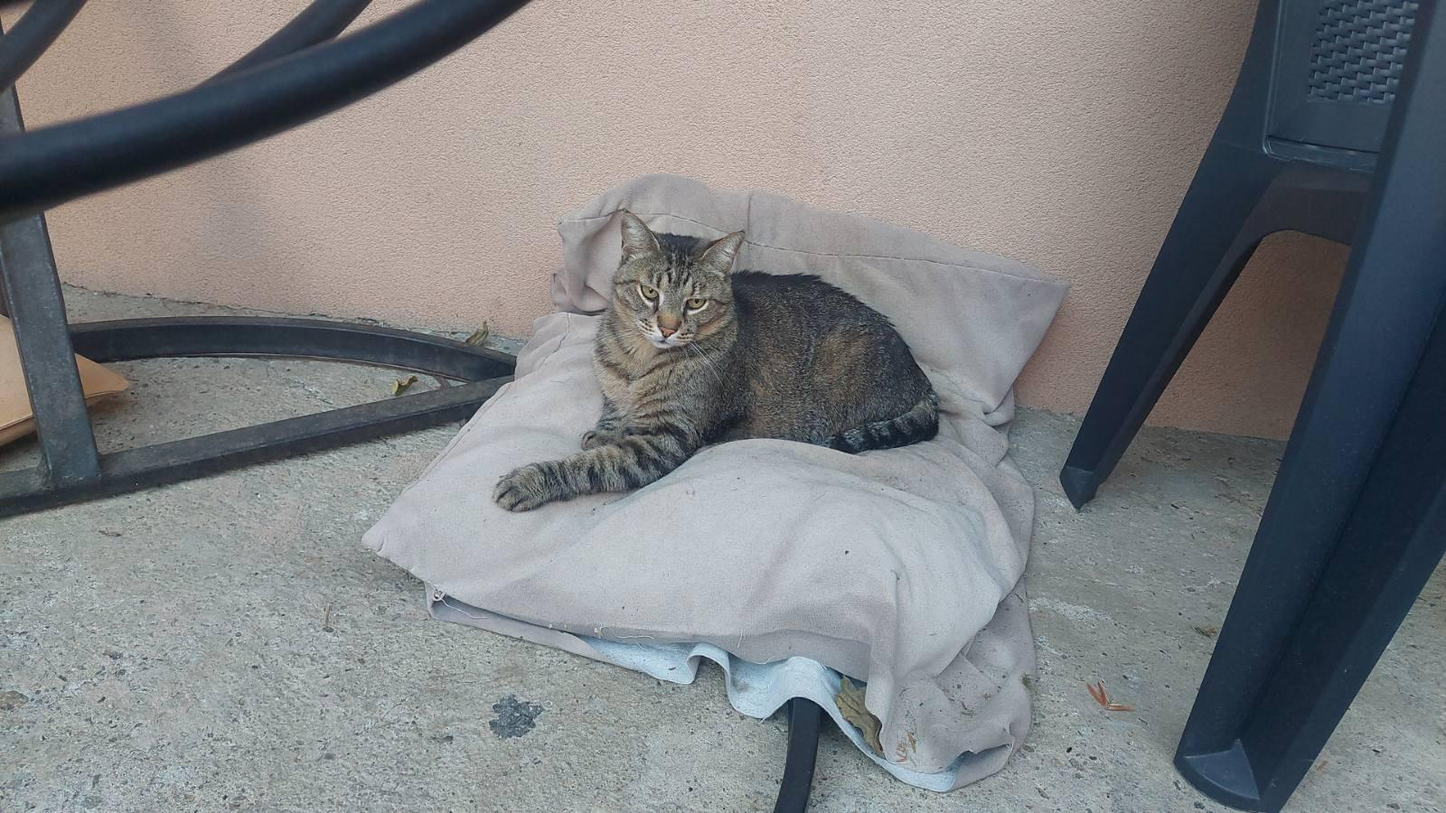macka: (493, 207, 940, 514)
